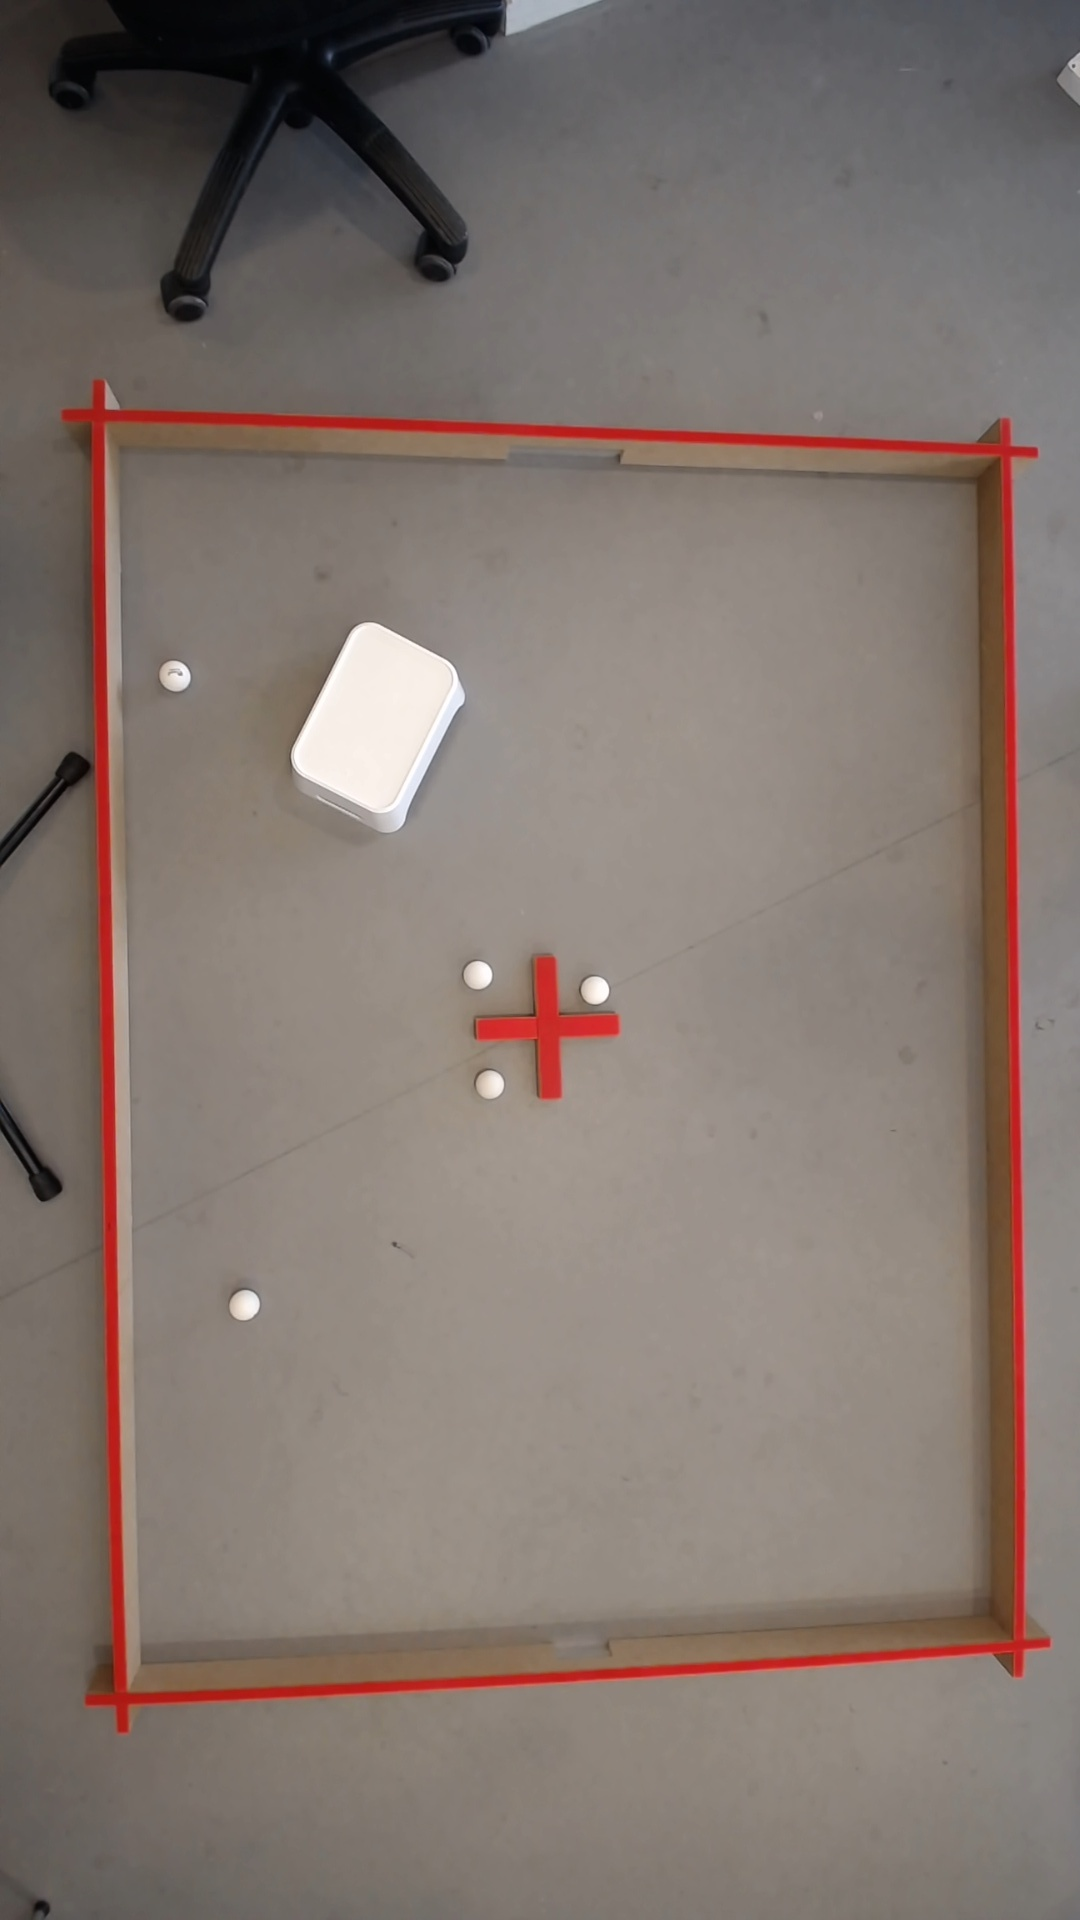balls: (280, 613, 477, 831), (156, 655, 194, 695), (228, 1286, 264, 1324), (578, 972, 613, 1007), (463, 956, 495, 990)
car: (480, 1069, 504, 1097)
